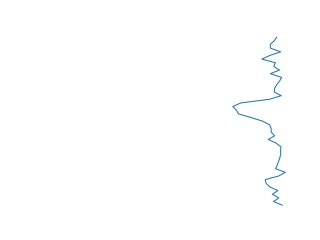interdistributaryEstuary: (228, 37, 294, 207)
